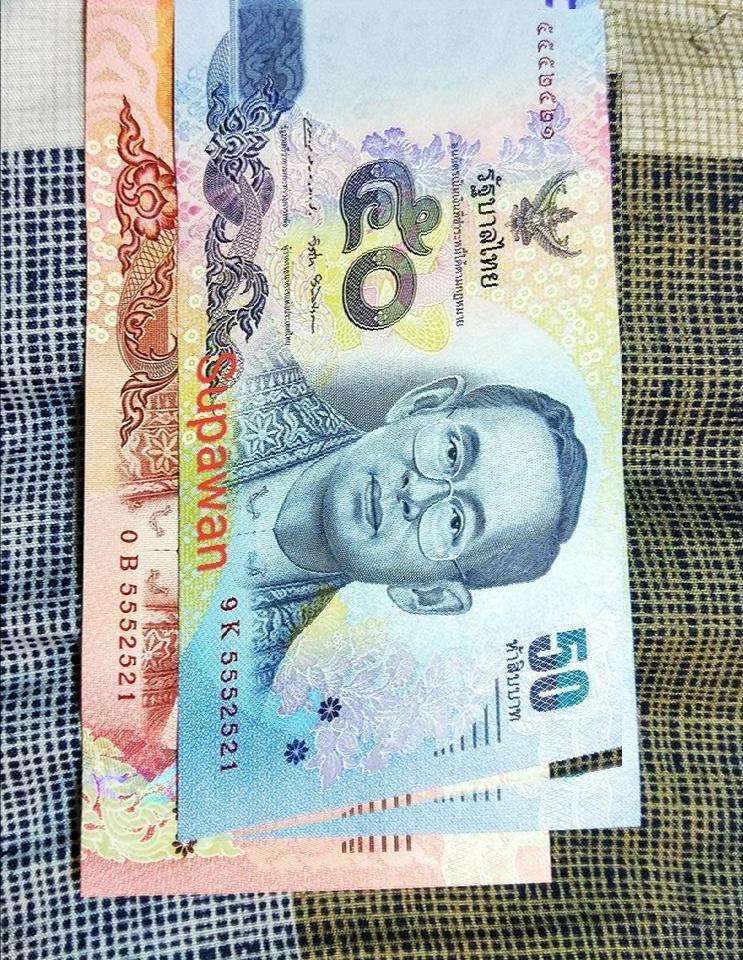50BahtTai: (186, 9, 622, 847)
